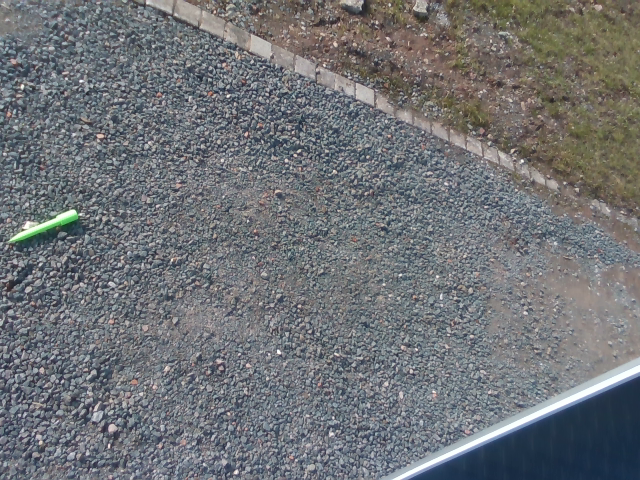Probe: (3, 206, 81, 248)
